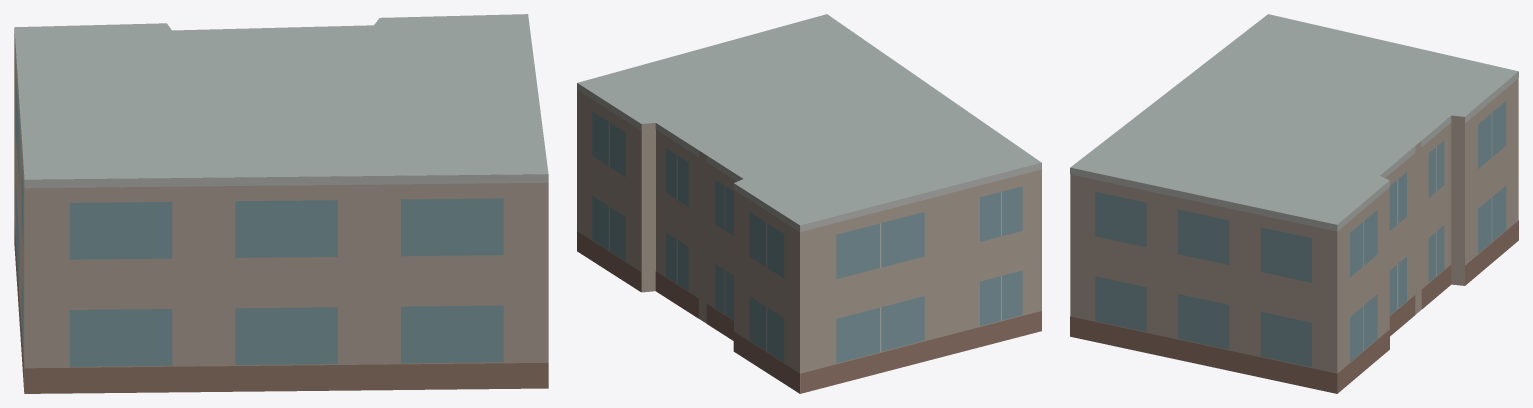
The model's file is survey-upis-32930305.glb.
The picture shows the model from 3 angles, left to right: view 1: azimuth 30°, elevation 25°; view 2: azimuth 150°, elevation 25°; view 3: azimuth 270°, elevation 25°; orthographic projection. The views are drawn at different scales.
Visible parts, largest first — view 1: survey-upis-32930305.tmp; view 2: survey-upis-32930305.tmp; view 3: survey-upis-32930305.tmp.
Boxes of the visible parts, bbox=[...] form: survey-upis-32930305.tmp: bbox=[14, 14, 548, 393]; survey-upis-32930305.tmp: bbox=[577, 14, 1041, 393]; survey-upis-32930305.tmp: bbox=[1070, 14, 1518, 393].
Bounding box in the file's own units: 16.32 × 6.1 × 14.68.
